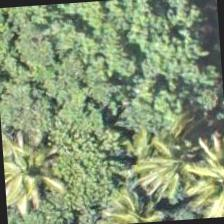Kelapa_Sawit: (175, 137, 223, 219)
